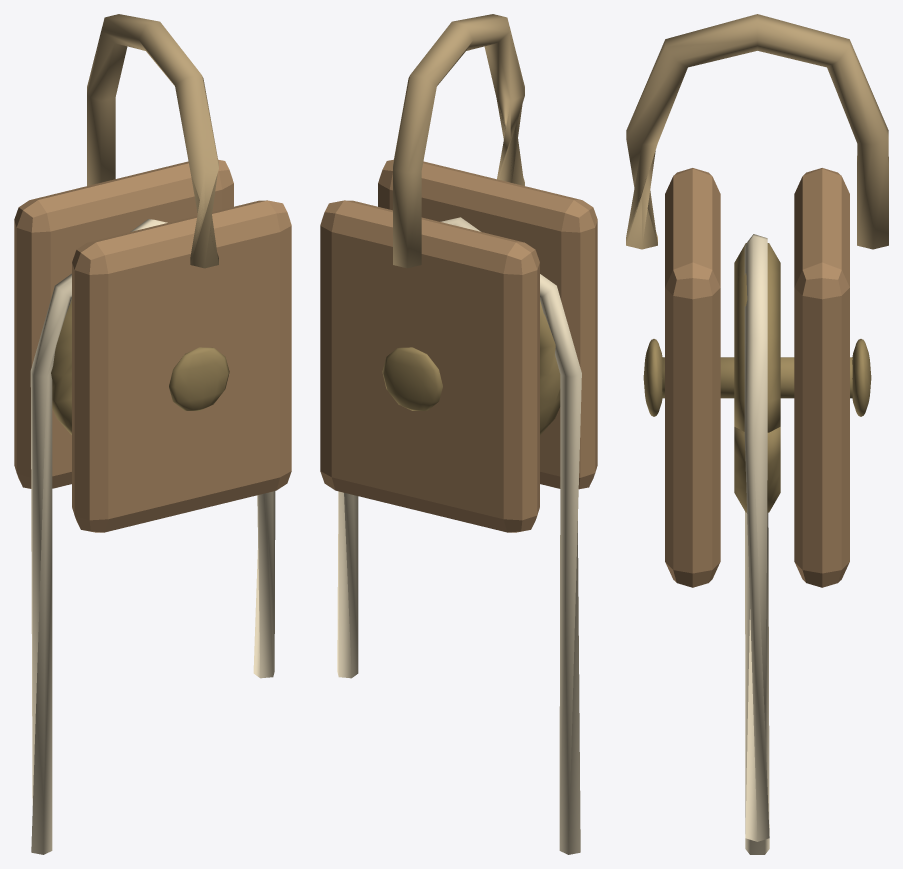
File: rigging-block.glb
The picture shows the model from 3 angles, left to right: view 1: azimuth 30°, elevation 25°; view 2: azimuth 150°, elevation 25°; view 3: azimuth 270°, elevation 25°; orthographic projection. The views are drawn at different scales.
Parts seen in each view (by area): view 1: rigging-block__woodlight, rigging-block__linen, rigging-block__rope, rigging-block__bronze; view 2: rigging-block__woodlight, rigging-block__linen, rigging-block__rope, rigging-block__bronze; view 3: rigging-block__woodlight, rigging-block__rope, rigging-block__linen, rigging-block__bronze.
Boxes of the visible parts, left/top/right/bottom form: rigging-block__woodlight: left=14, top=159, right=291, bottom=532; rigging-block__linen: left=30, top=219, right=275, bottom=854; rigging-block__rope: left=87, top=14, right=218, bottom=268; rigging-block__bronze: left=51, top=299, right=229, bottom=434; rigging-block__woodlight: left=320, top=159, right=597, bottom=532; rigging-block__linen: left=337, top=217, right=581, bottom=854; rigging-block__rope: left=393, top=14, right=524, bottom=268; rigging-block__bronze: left=382, top=300, right=560, bottom=434; rigging-block__woodlight: left=665, top=168, right=849, bottom=587; rigging-block__rope: left=626, top=14, right=888, bottom=249; rigging-block__linen: left=744, top=234, right=769, bottom=854; rigging-block__bronze: left=643, top=243, right=871, bottom=512.
Bounding box in the file's own units: 0.272 × 0.8539 × 0.2277.
